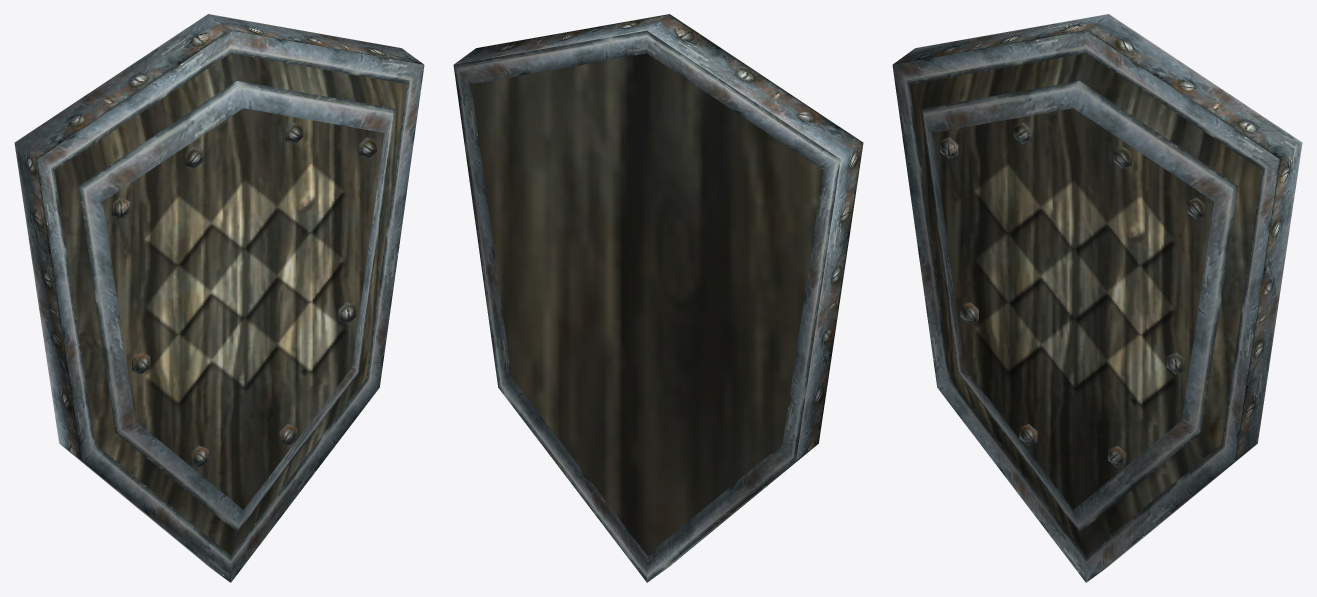
Rendered from shield-04.fbx.
3 renders of one model, left to right at view 1: azimuth 30°, elevation 25°; view 2: azimuth 150°, elevation 25°; view 3: azimuth 330°, elevation 25°, orthographic.
Parts seen in each view (by area): view 1: Cube.253; view 2: Cube.253; view 3: Cube.253.
Part boxes in pixels (box(x1,y1,x2,y2)): Cube.253: box(14, 14, 424, 582); Cube.253: box(453, 14, 863, 582); Cube.253: box(892, 14, 1302, 582).
Bounding box in the file's own units: 0.695 × 0.947 × 0.1138.
